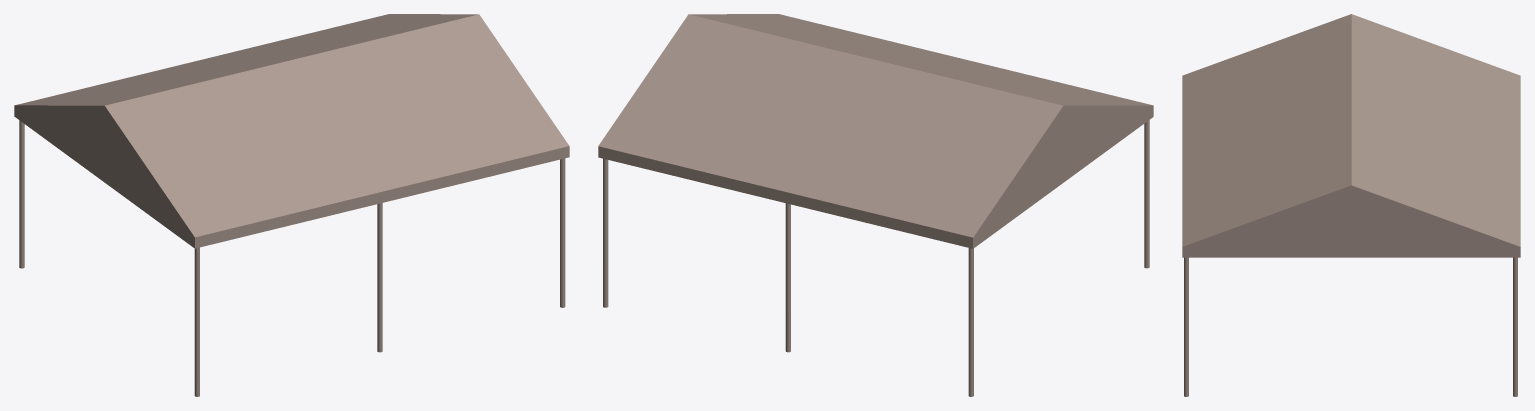
The model's file is SM_Gazebo.fbx.
The picture shows the model from 3 angles, left to right: view 1: azimuth 30°, elevation 25°; view 2: azimuth 150°, elevation 25°; view 3: azimuth 270°, elevation 25°; orthographic projection. The views are drawn at different scales.
Parts seen in each view (by area): view 1: SM_Gazebo; view 2: SM_Gazebo; view 3: SM_Gazebo.
Part boxes in pixels (box(x1,y1,x2,y2)): SM_Gazebo: box(14, 14, 569, 396); SM_Gazebo: box(598, 14, 1153, 396); SM_Gazebo: box(1182, 14, 1520, 396).
Bounding box in the file's own units: 800 × 463 × 668.
